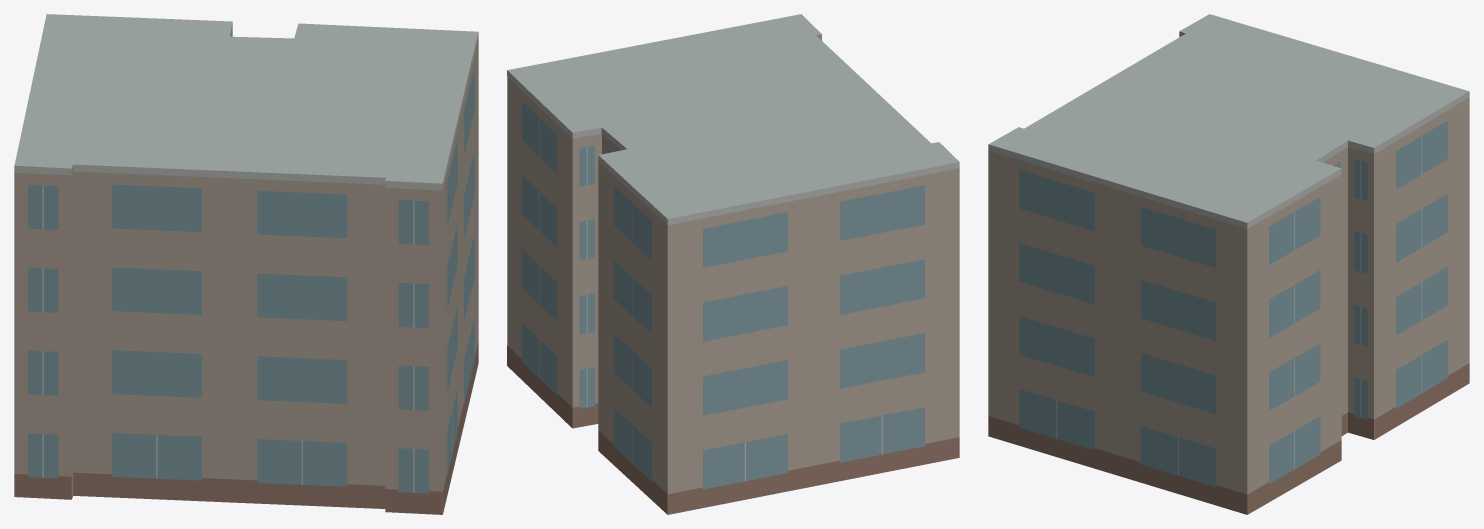
The model's file is survey-upis-32905761.glb.
The picture shows the model from 3 angles, left to right: view 1: azimuth 30°, elevation 25°; view 2: azimuth 150°, elevation 25°; view 3: azimuth 270°, elevation 25°; orthographic projection. The views are drawn at different scales.
Visible parts, largest first — view 1: survey-upis-32905761.tmp; view 2: survey-upis-32905761.tmp; view 3: survey-upis-32905761.tmp.
Part boxes in pixels (<box>): survey-upis-32905761.tmp: <box>14,14,478,514</box>; survey-upis-32905761.tmp: <box>507,14,959,514</box>; survey-upis-32905761.tmp: <box>988,14,1469,514</box>.
Bounding box in the file's own units: 17.81 × 11.6 × 17.33.
